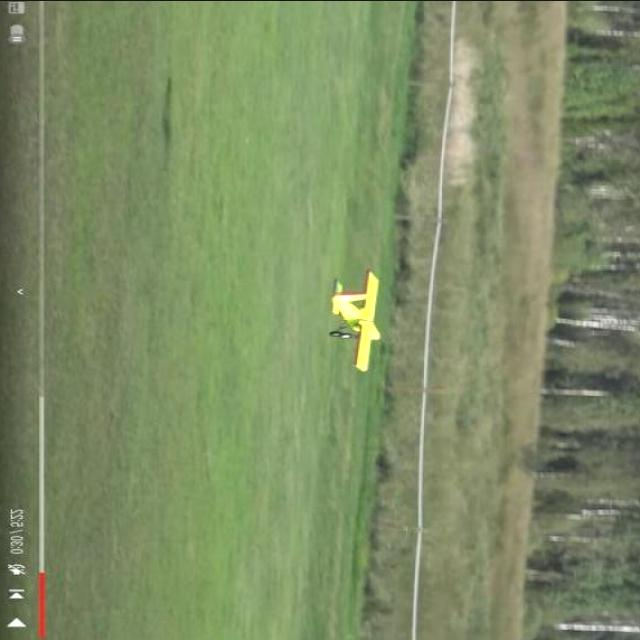plane: (329, 270, 384, 372)
